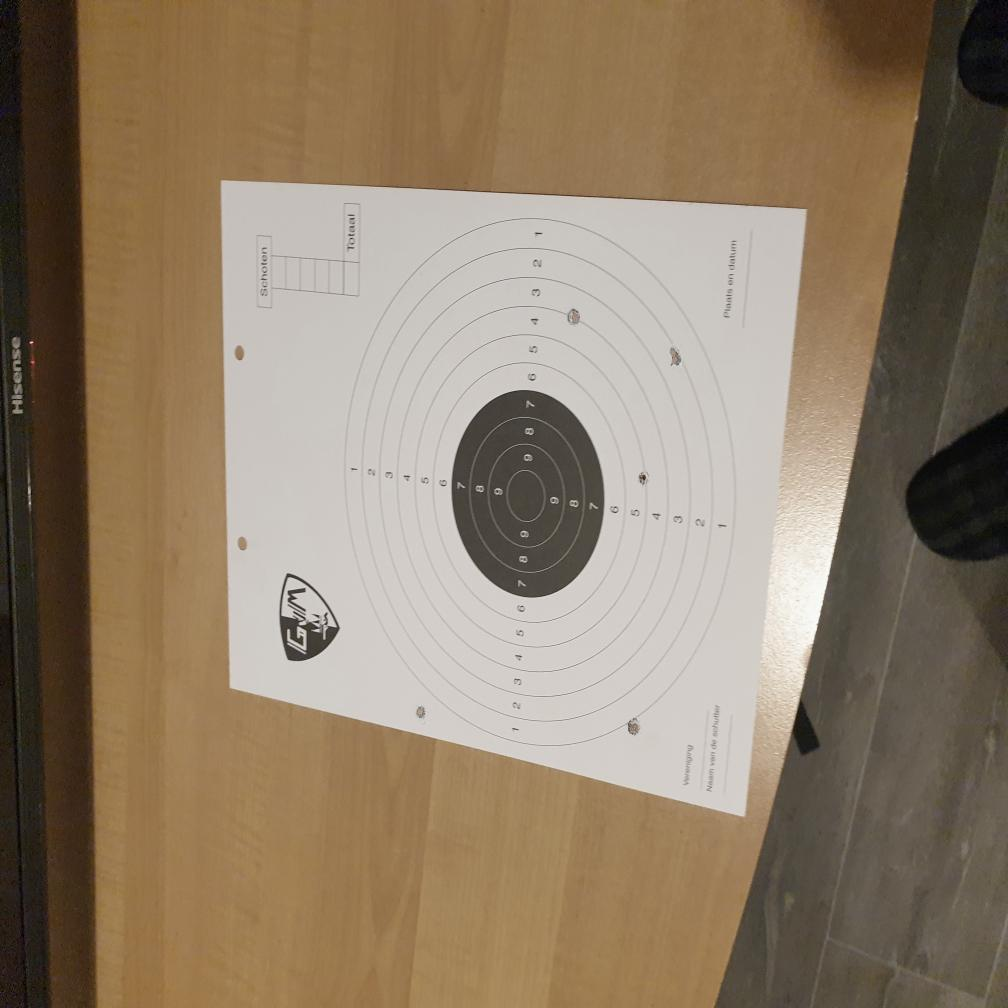0: (627, 717, 640, 735), (415, 703, 425, 720)
2: (670, 356, 682, 366), (669, 345, 679, 356)
4: (567, 308, 580, 326)
5: (638, 470, 649, 486)
Target: (343, 217, 736, 745)
black_contour: (451, 390, 604, 597)
